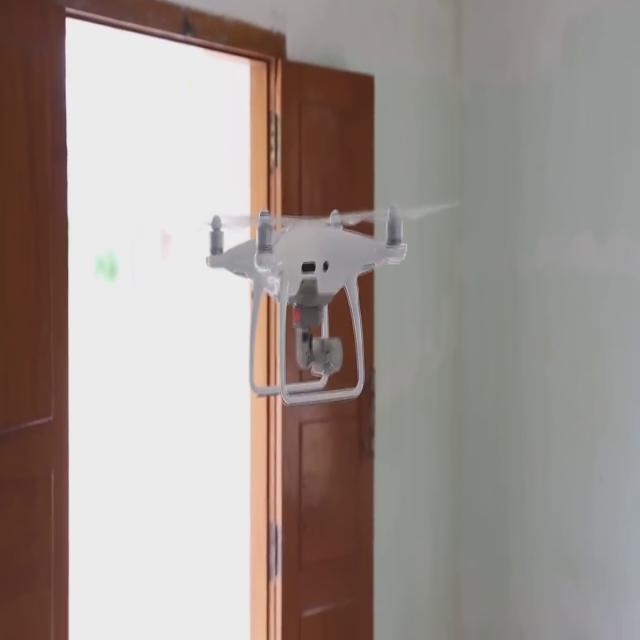drone: (184, 183, 476, 442)
